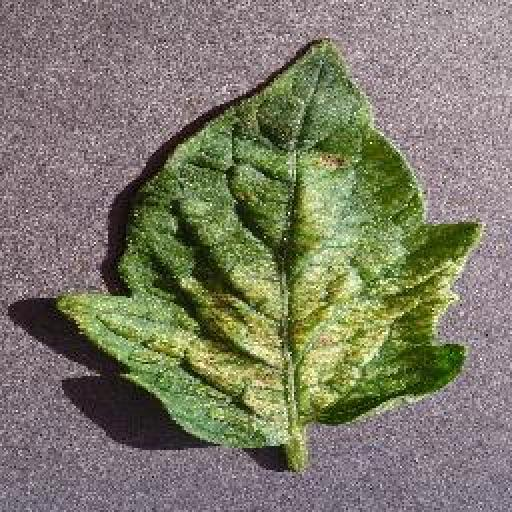disease_tomato: (62, 34, 479, 446)
